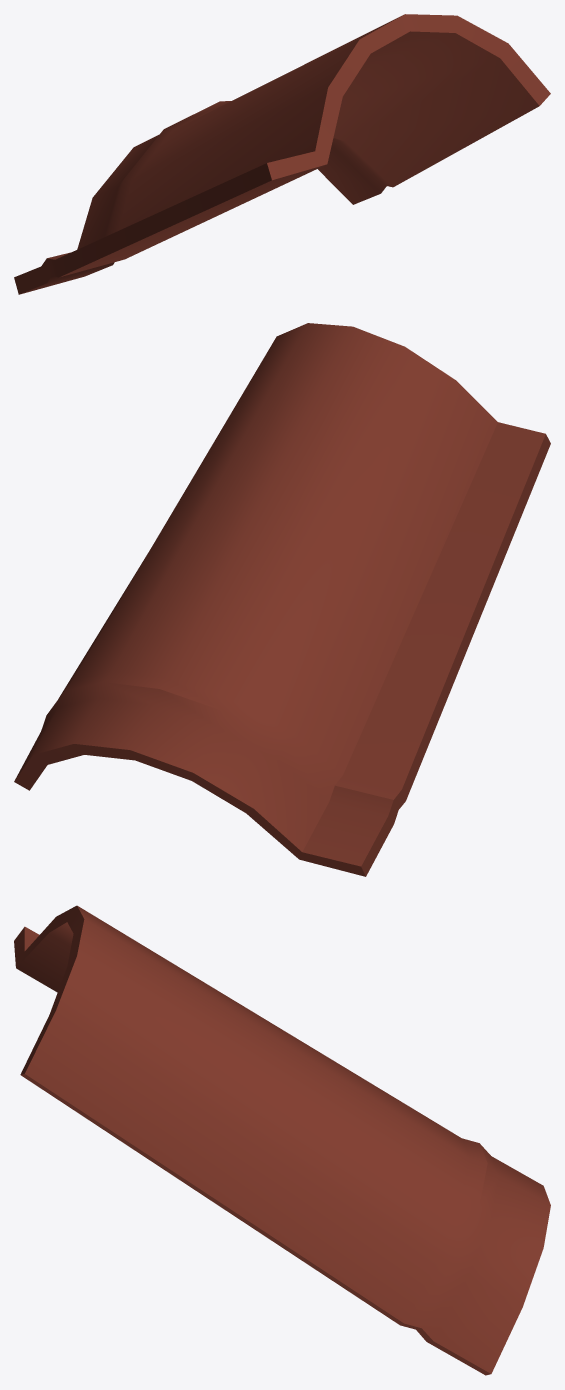
Rendered from RoofTile-1.glb.
The picture shows the model from 3 angles, top to bottom: view 1: azimuth 30°, elevation 25°; view 2: azimuth 150°, elevation 25°; view 3: azimuth 270°, elevation 25°; orthographic projection. The views are drawn at different scales.
Visible parts, largest first — view 1: RoofTile.005; view 2: RoofTile.005; view 3: RoofTile.005.
Boxes of the visible parts, x1,y1,x2,y2 form: RoofTile.005: [14, 14, 550, 294]; RoofTile.005: [14, 323, 550, 876]; RoofTile.005: [14, 905, 550, 1375].
Bounding box in the file's own units: 0.2225 × 0.2243 × 0.2785.
